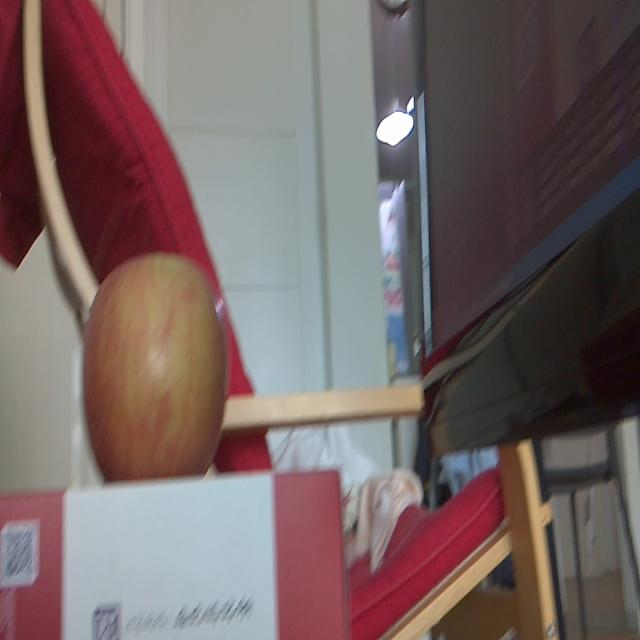apple: (84, 252, 230, 484)
